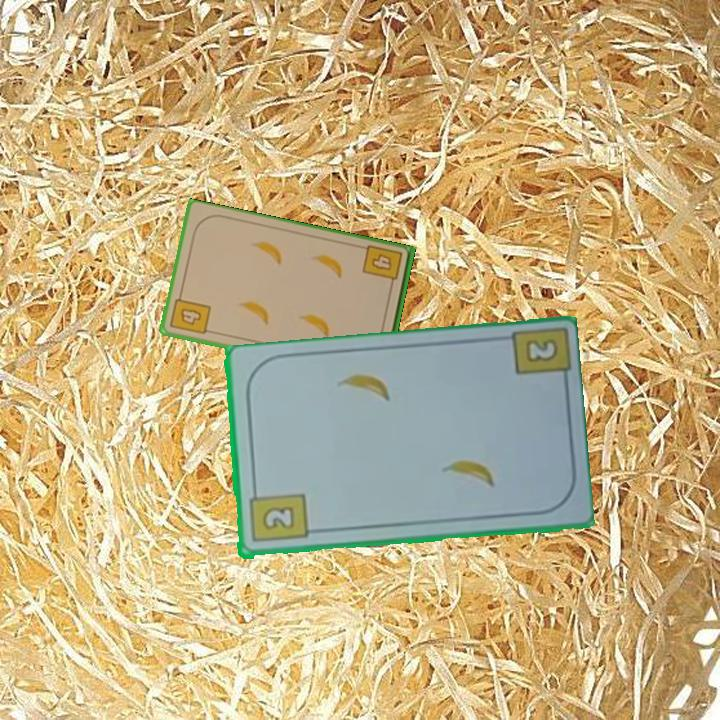2b: (245, 484, 310, 546), (521, 335, 561, 366)
4b: (359, 242, 405, 292), (167, 289, 214, 337)
